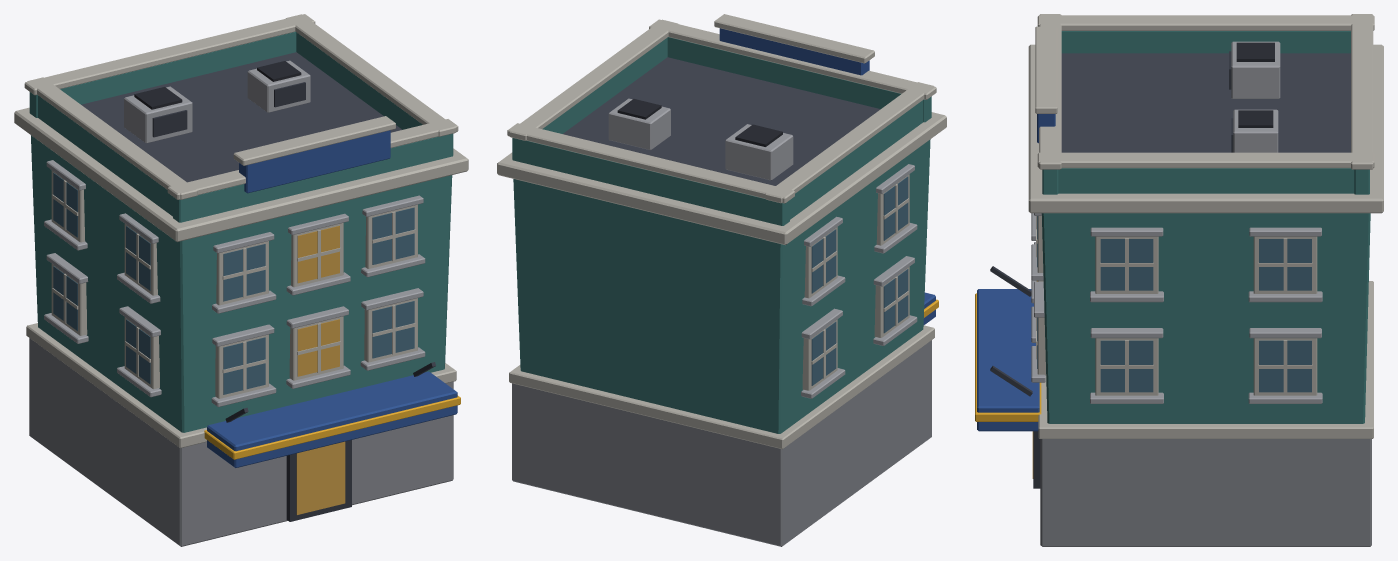
File: Stylized_Apoc_Building_06_Ruined_Clinic_Lowrise.fbx
3 views of the same model, side by side, from view 1: azimuth 30°, elevation 25°; view 2: azimuth 150°, elevation 25°; view 3: azimuth 270°, elevation 25° (orthographic). The views are drawn at different scales.
Parts seen in each view (by area): view 1: Stylized_Apoc_Building_06_Ruined_Clinic_Lowrise; view 2: Stylized_Apoc_Building_06_Ruined_Clinic_Lowrise; view 3: Stylized_Apoc_Building_06_Ruined_Clinic_Lowrise.
Boxes of the visible parts, x1,y1,x2,y2 form: Stylized_Apoc_Building_06_Ruined_Clinic_Lowrise: (14,14,468,546); Stylized_Apoc_Building_06_Ruined_Clinic_Lowrise: (497,14,946,546); Stylized_Apoc_Building_06_Ruined_Clinic_Lowrise: (975,14,1383,546).
Bounding box in the file's own units: 5.58 × 6.82 × 6.19.
